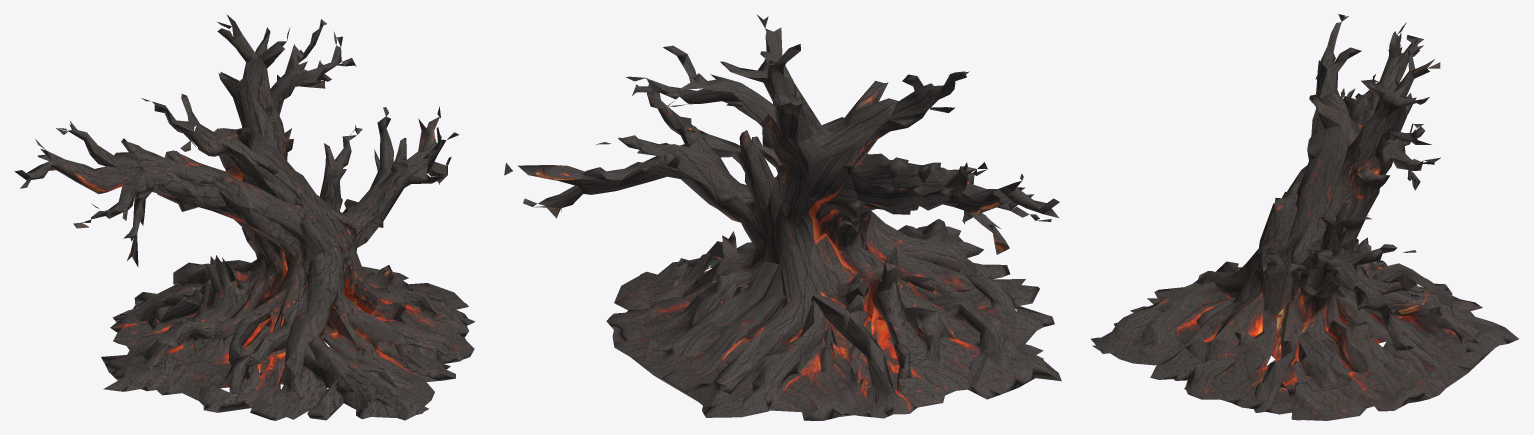
The model's file is tree_ember.glb.
3 views of the same model, side by side, from view 1: azimuth 30°, elevation 25°; view 2: azimuth 150°, elevation 25°; view 3: azimuth 270°, elevation 25° (orthographic). The views are drawn at different scales.
Parts seen in each view (by area): view 1: tree_ember; view 2: tree_ember; view 3: tree_ember.
Boxes of the visible parts, <box> form: tree_ember: <box>14,15,475,420</box>; tree_ember: <box>504,15,1061,420</box>; tree_ember: <box>1091,14,1518,420</box>.
Size of the model in its own units: 177 by 107 by 149.
Materials: 1 (1 with a texture image).
